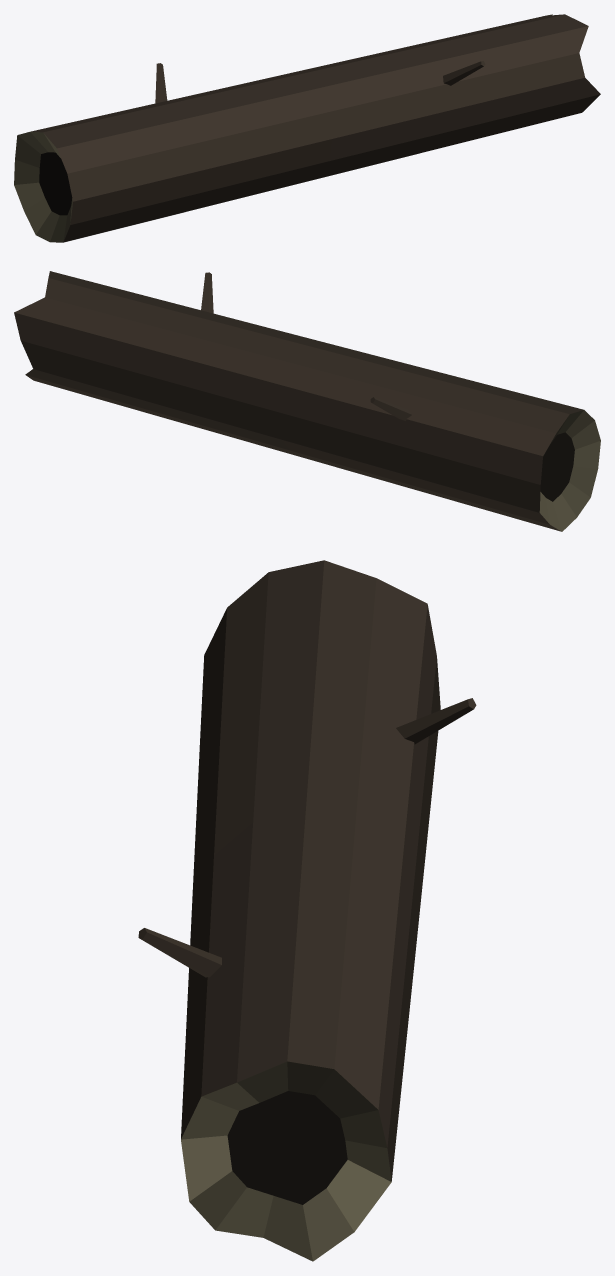
Rendered from deadfall.glb.
3 renders of one model, top to bottom at view 1: azimuth 30°, elevation 25°; view 2: azimuth 150°, elevation 25°; view 3: azimuth 270°, elevation 25°, orthographic. The views are drawn at different scales.
Visible parts, largest first — view 1: deadfall; view 2: deadfall; view 3: deadfall.
Boxes of the visible parts, x1,y1,x2,y2 form: deadfall: (14, 14, 600, 242); deadfall: (14, 271, 600, 531); deadfall: (138, 560, 476, 1261).
Size of the model in its own units: 1.47 by 0.3123 by 0.4111.
